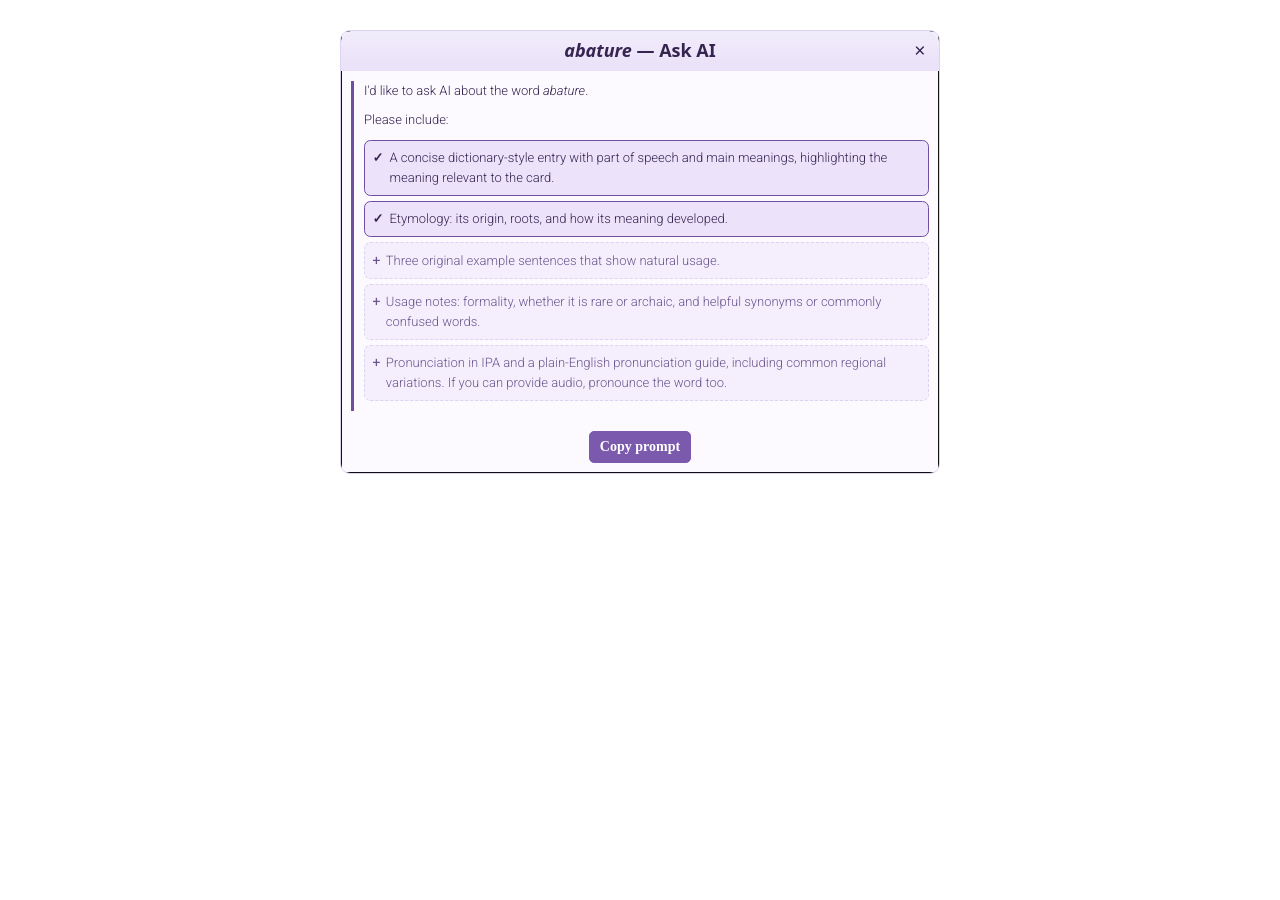
Test: defaults to dictionary entry and etymology and updates the copied prompt when toggled
Expected: the element named "Your prompt" shows "I'd like to ask AI about the word abature.", [351,81,929,411]
Click the button "Pronunciation": (646,373) [364,345,929,401]
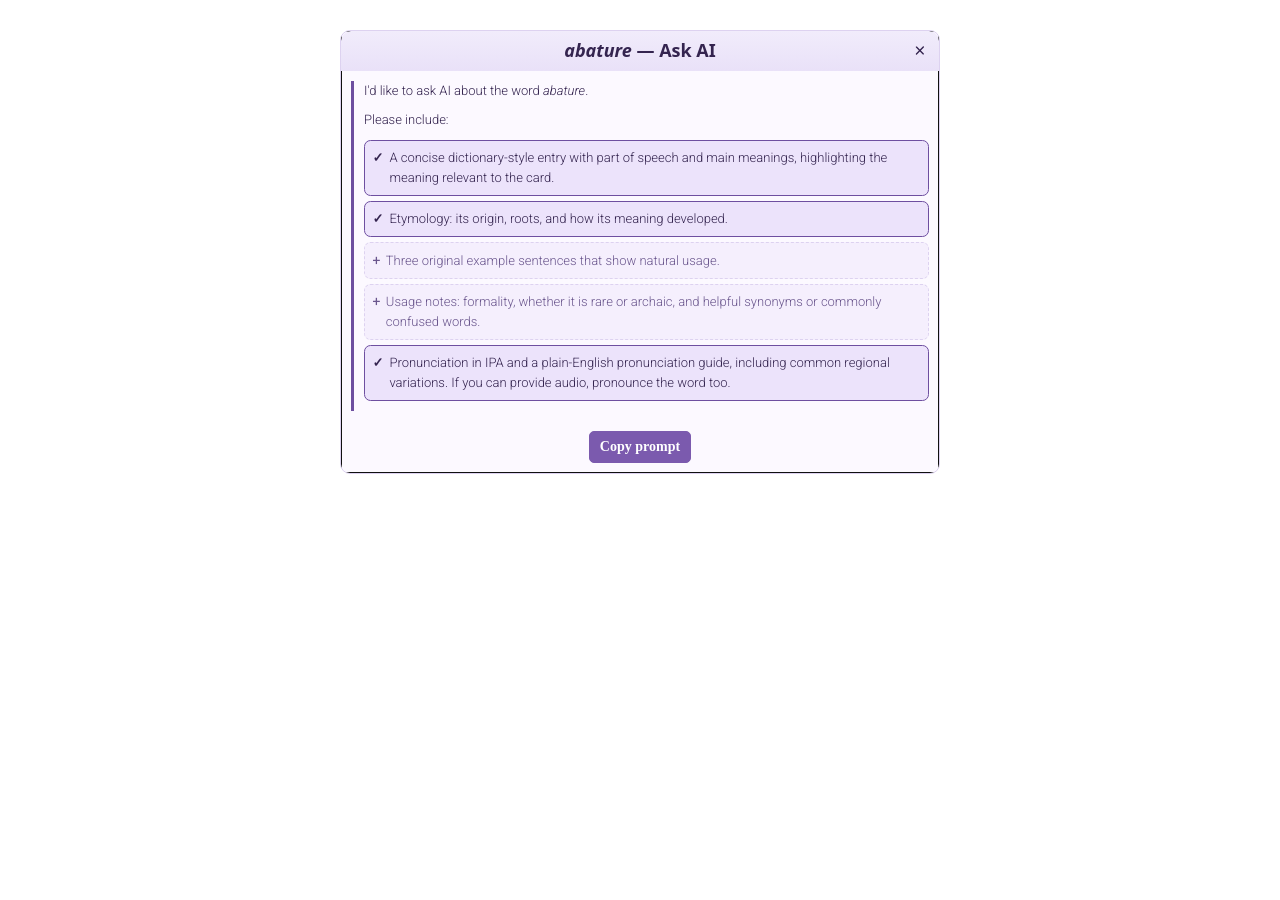
Expected: the button "Pronunciation" is pressed, [364,345,929,401]
Click the button named "Dictionary entry": (646,168) [364,140,929,196]
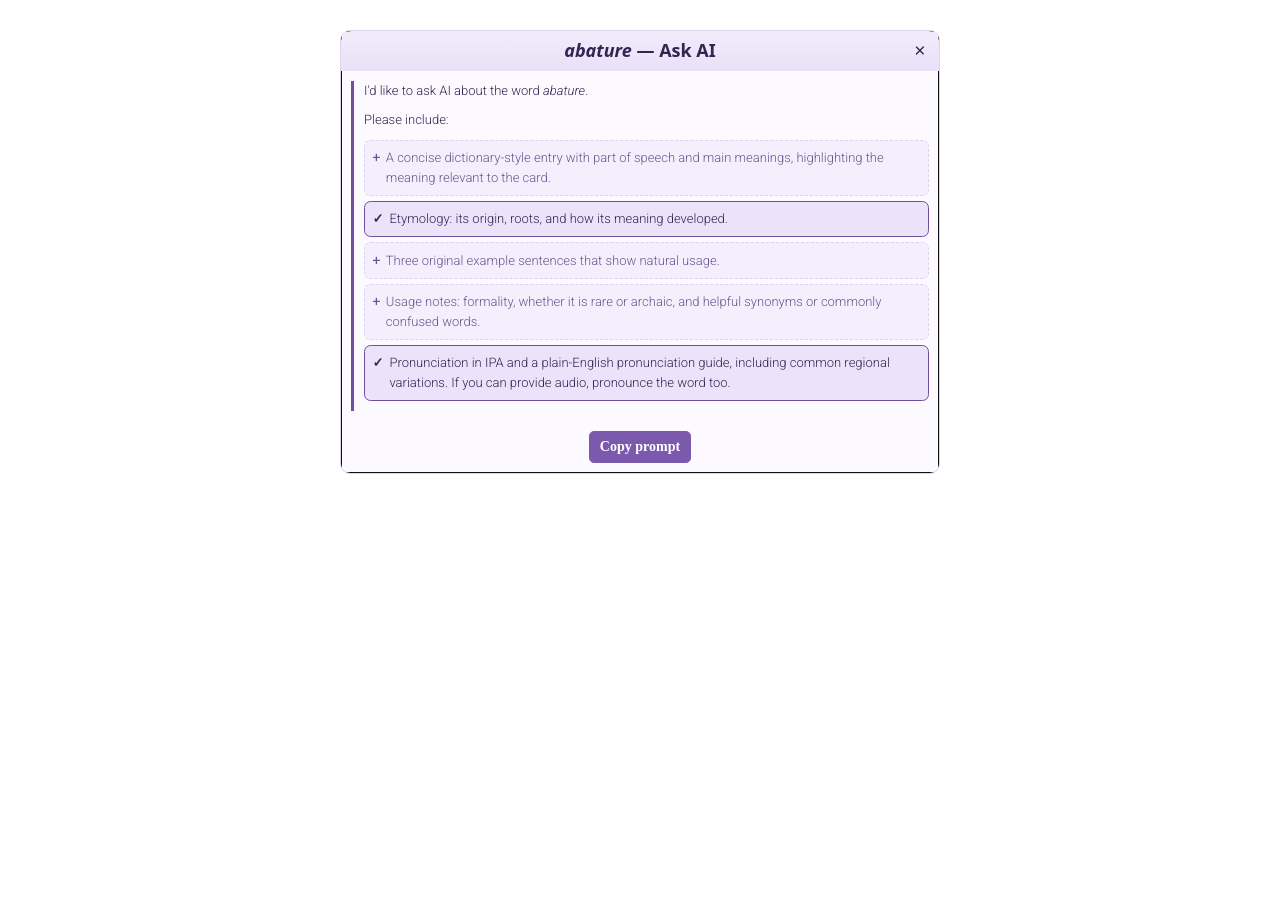
Expected: the button named "Dictionary entry" is not pressed, [364,140,929,196]
Click the button "Copy prompt": (640,447) [589,431,691,463]
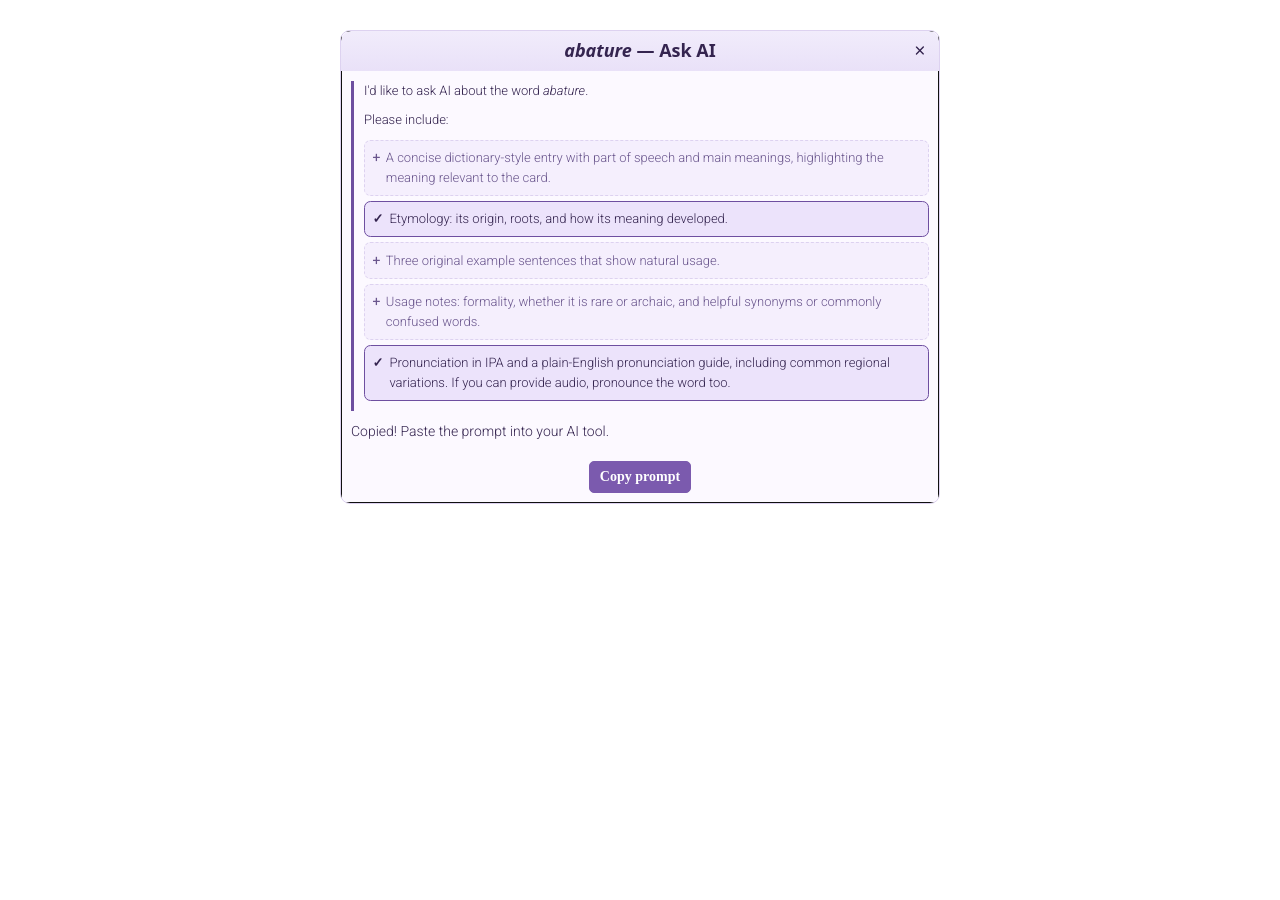
Expected: the text "Copied! Paste the prompt into your AI tool." is shown, [351,423,609,439]
Click the button "Pronunciation": (646,373) [364,345,929,401]
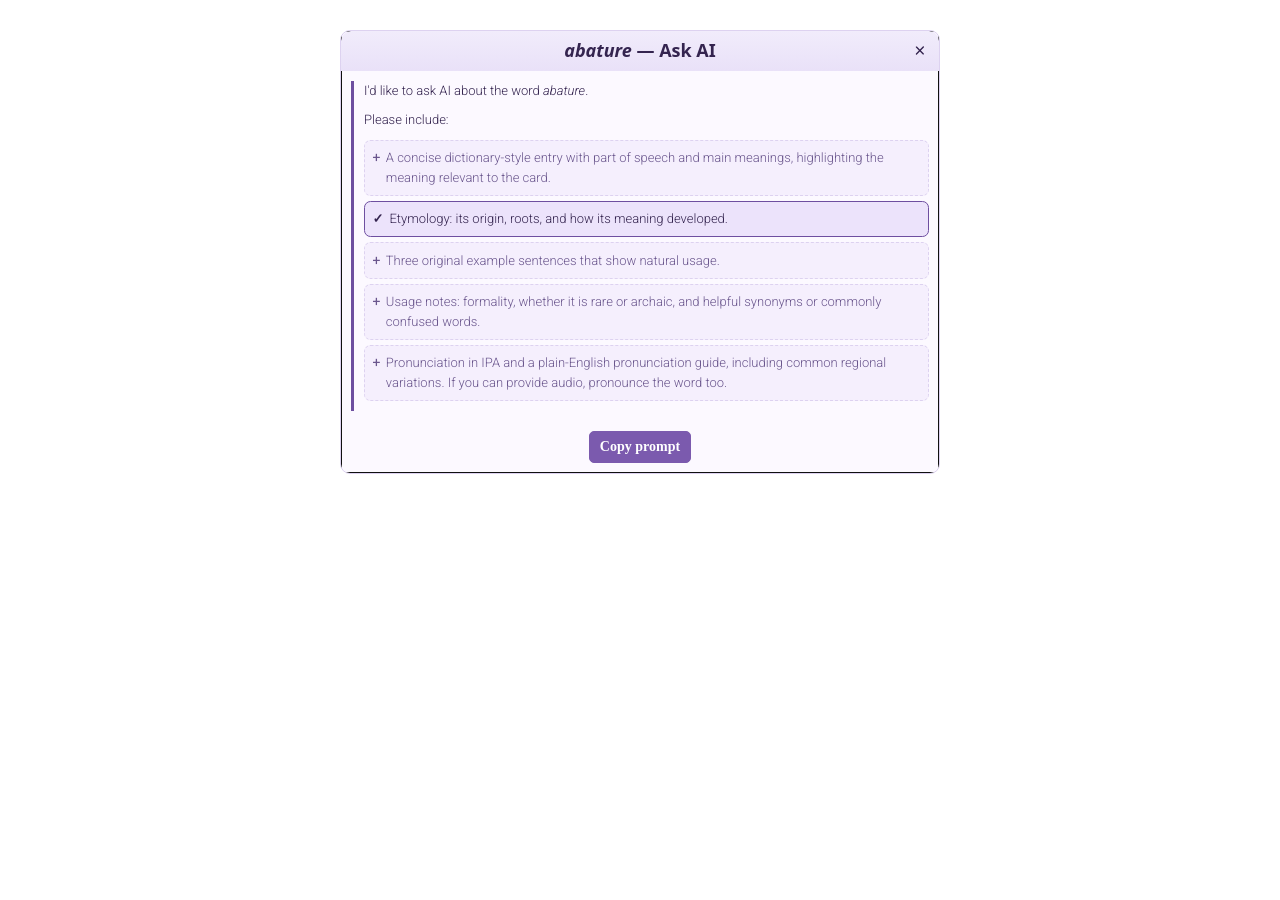
Click the button "Etymology": (646,219) [364,201,929,237]
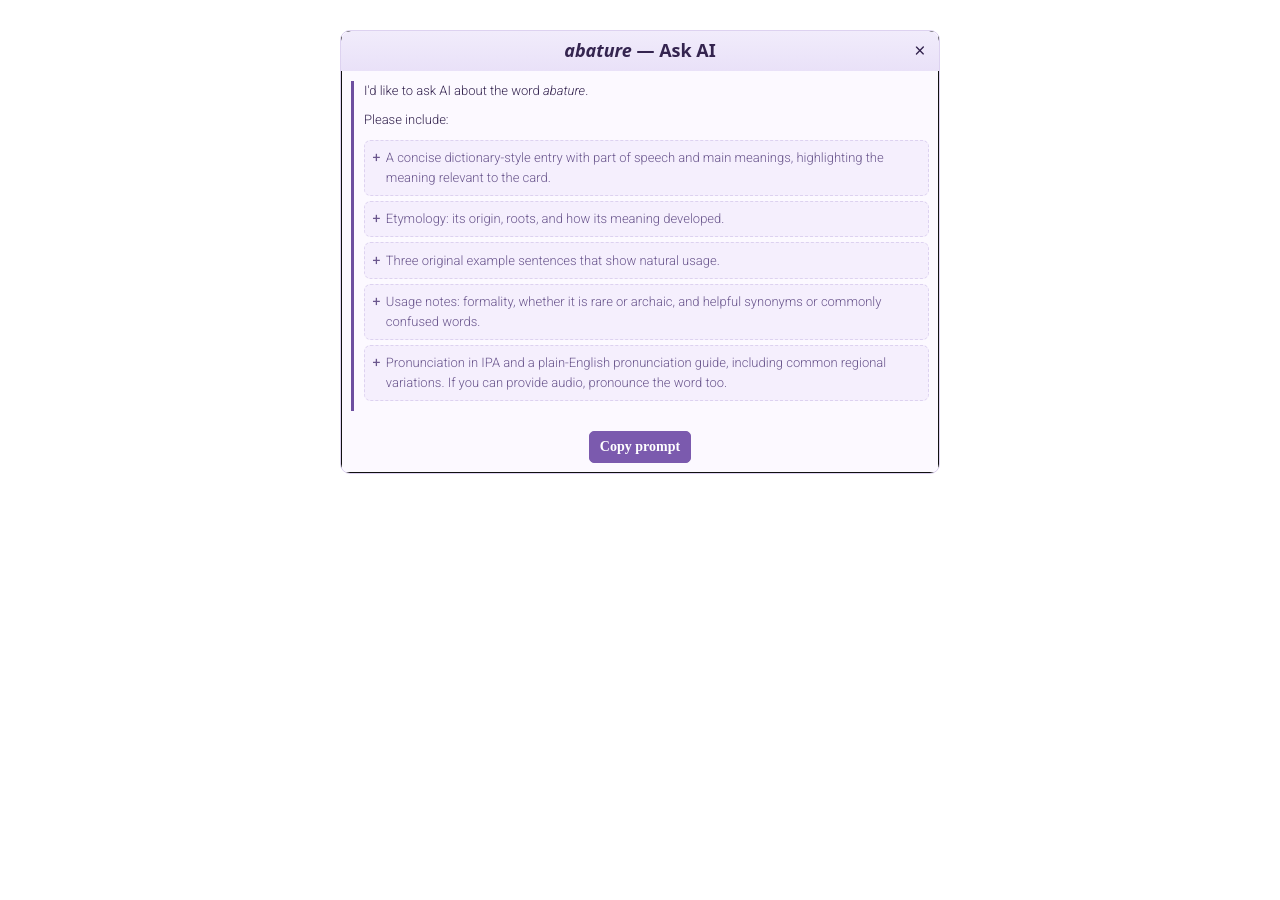
Click the button "Copy prompt": (640,447) [589,431,691,463]
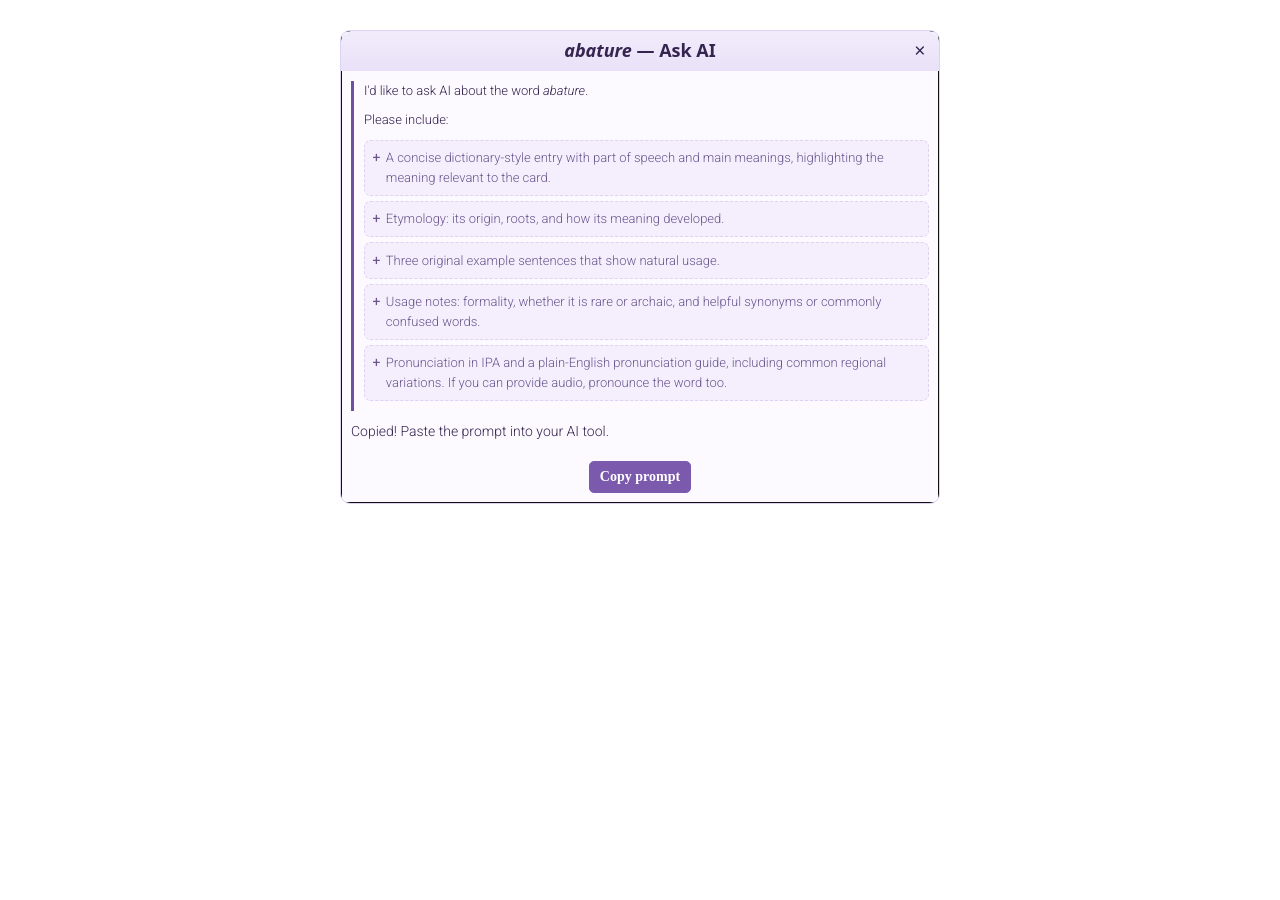
Expected: the text "Copied! Paste the prompt into your AI tool." is shown, [351,423,609,439]
